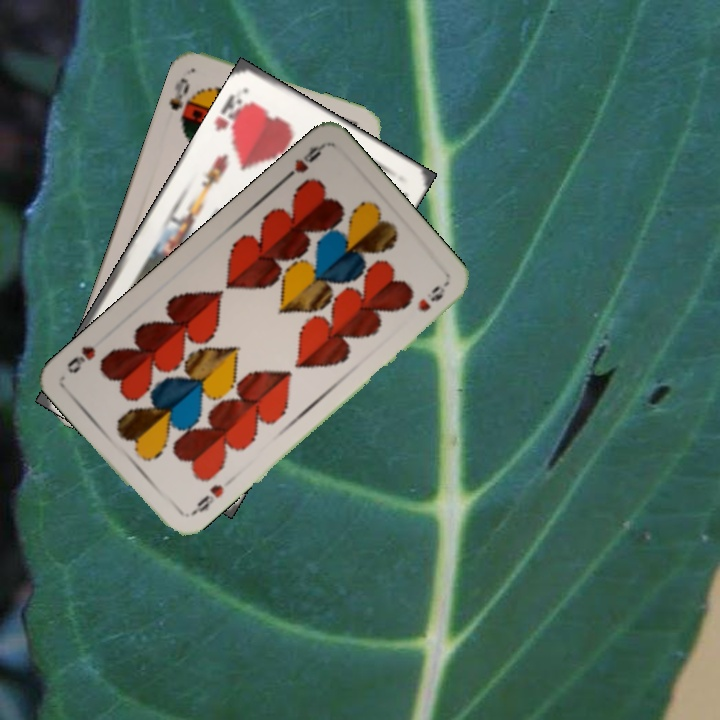H9: (277, 141, 326, 185), (182, 480, 227, 519)
HK: (210, 90, 254, 141)
SO: (164, 73, 197, 131)
